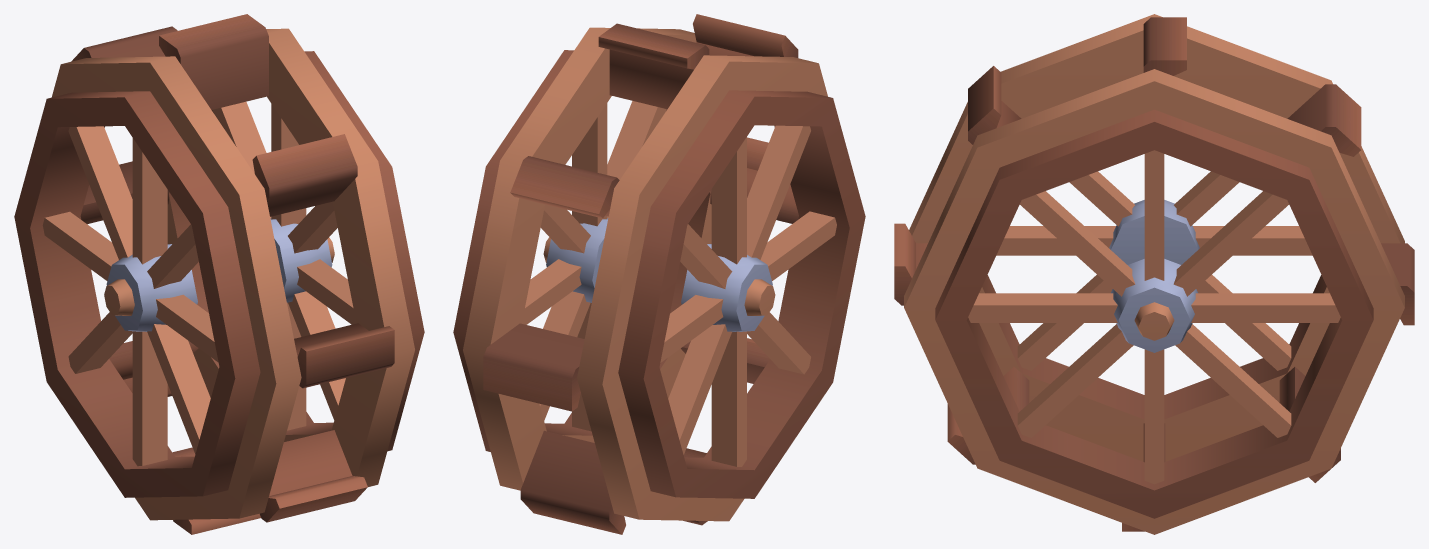
The model's file is watermill.glb.
3 renders of one model, left to right at view 1: azimuth 30°, elevation 25°; view 2: azimuth 150°, elevation 25°; view 3: azimuth 270°, elevation 25°, orthographic.
Visible parts, largest first — view 1: watermill; view 2: watermill; view 3: watermill.
Boxes of the visible parts, x1,y1,x2,y2 form: watermill: [14, 14, 424, 534]; watermill: [453, 14, 865, 534]; watermill: [894, 14, 1414, 534].
Bounding box in the file's own units: 0.85 × 1.8 × 1.8.
1 material, 1 textured.
